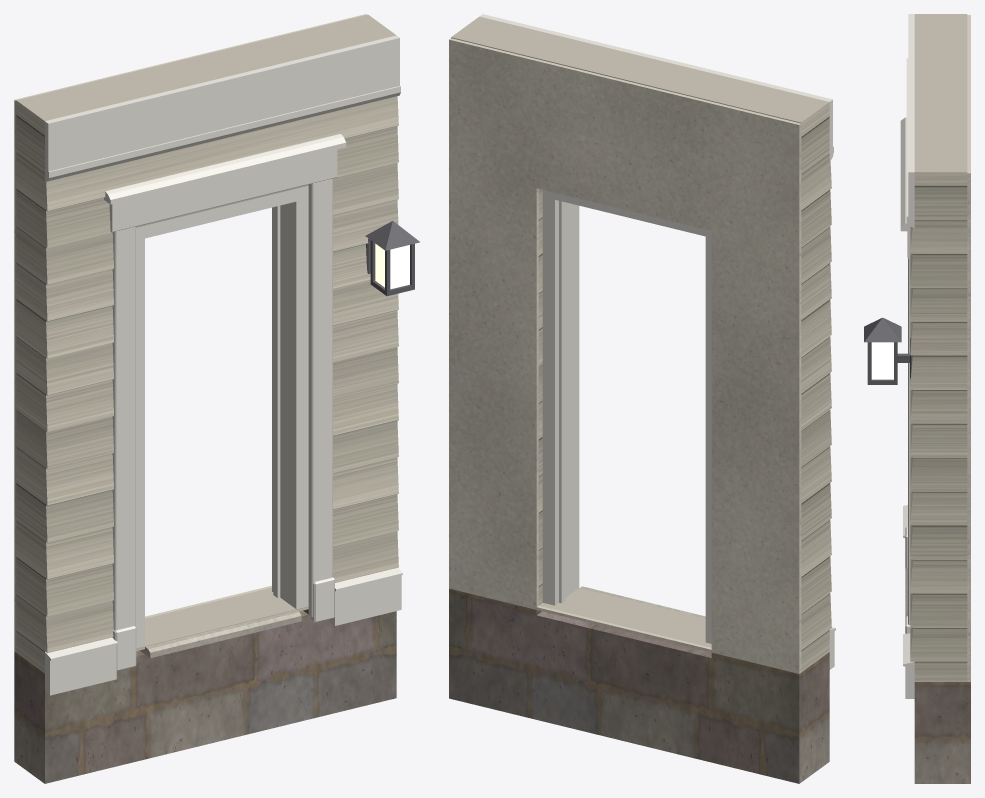
File: h_door0.glb
3 renders of one model, left to right at view 1: azimuth 30°, elevation 25°; view 2: azimuth 150°, elevation 25°; view 3: azimuth 270°, elevation 25°, orthographic. The views are drawn at different scales.
Visible parts, largest first — view 1: h_door0_siding, h_door0_trim, h_door0_stone, h_door0_frame, h_door0_plaster, h_door0_cap, h_door0_iron, h_door0_lamp_glass; view 2: h_door0_plaster, h_door0_stone, h_door0_siding, h_door0_frame, h_door0_trim; view 3: h_door0_siding, h_door0_stone, h_door0_trim, h_door0_plaster, h_door0_iron, h_door0_lamp_glass.
Part boxes in pixels (left/top/right/bottom): h_door0_siding: left=16, top=14, right=398, bottom=673; h_door0_trim: left=45, top=35, right=402, bottom=695; h_door0_stone: left=14, top=609, right=396, bottom=783; h_door0_frame: left=136, top=186, right=308, bottom=648; h_door0_plaster: left=14, top=14, right=366, bottom=652; h_door0_cap: left=140, top=610, right=301, bottom=658; h_door0_iron: left=365, top=221, right=419, bottom=296; h_door0_lamp_glass: left=375, top=243, right=409, bottom=289; h_door0_plaster: left=449, top=38, right=801, bottom=673; h_door0_stone: left=449, top=588, right=829, bottom=783; h_door0_siding: left=451, top=16, right=831, bottom=672; h_door0_frame: left=542, top=190, right=711, bottom=643; h_door0_trim: left=479, top=14, right=835, bottom=669; h_door0_siding: left=910, top=14, right=967, bottom=681; h_door0_stone: left=914, top=682, right=970, bottom=783; h_door0_trim: left=900, top=14, right=914, bottom=698; h_door0_plaster: left=967, top=15, right=970, bottom=681; h_door0_iron: left=864, top=317, right=912, bottom=384; h_door0_lamp_glass: left=871, top=342, right=893, bottom=379.
Bounding box in the file's own units: 2 × 3.6 × 0.57.
Materials: 8 (4 with a texture image).
